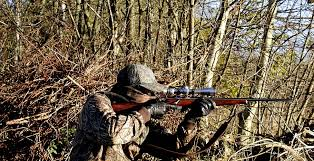gun: (110, 86, 292, 118)
